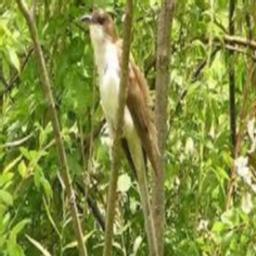Cuckoo: (79, 6, 161, 256)
